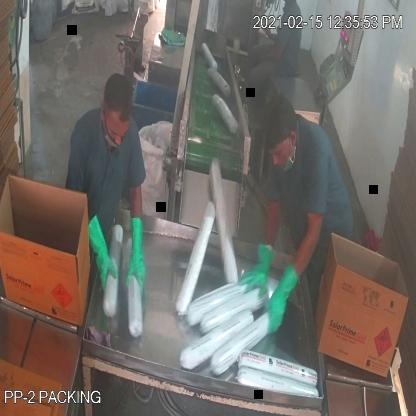glove: (122, 207, 158, 314), (259, 258, 303, 340), (83, 205, 122, 293), (237, 222, 273, 300)
